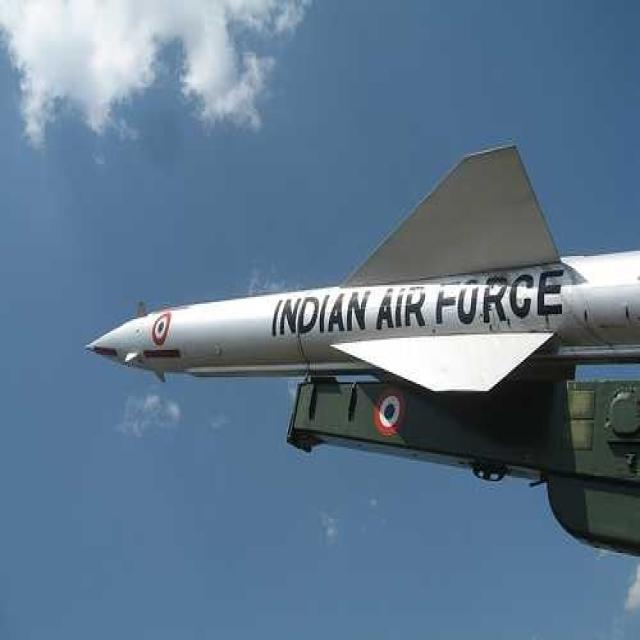missile: (91, 142, 640, 392)
